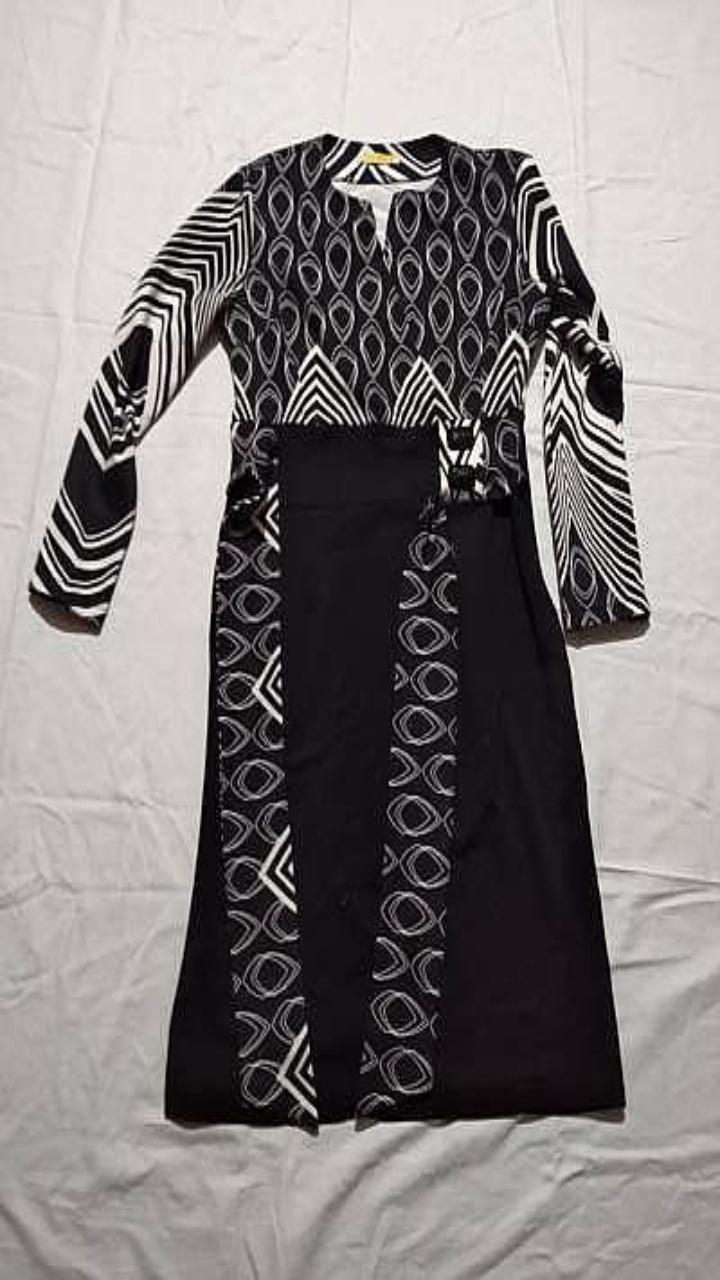Dresses: (29, 133, 649, 1127)
